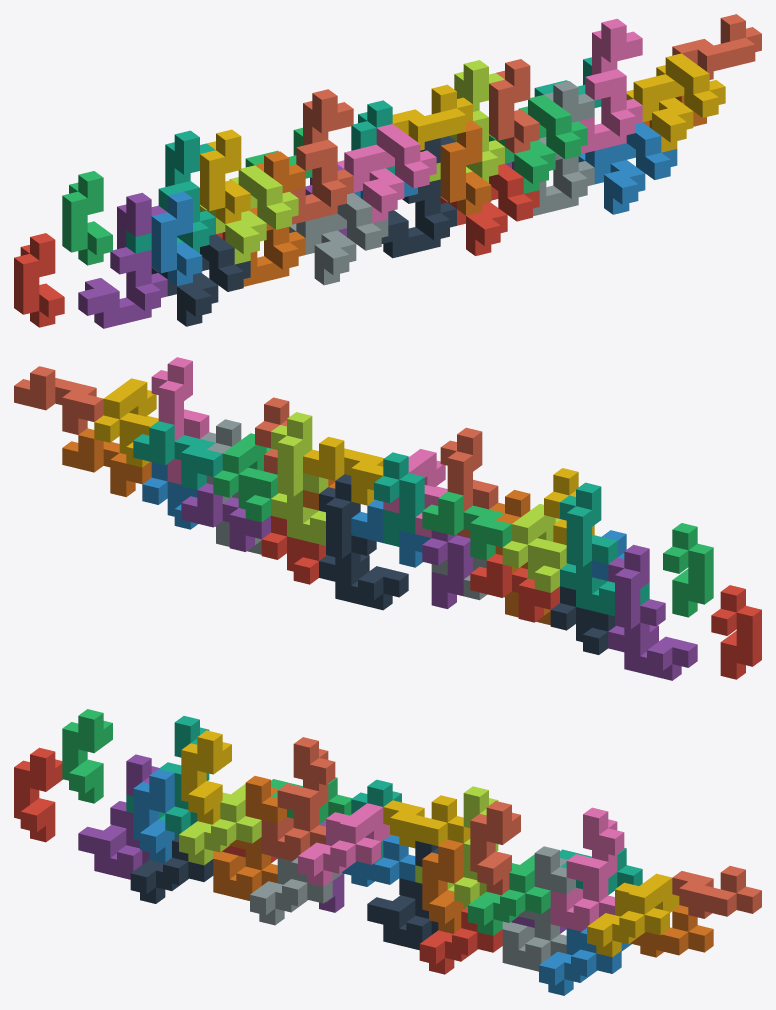
The model's file is tiling.obj.
3 views of the same model, one above another, from view 1: azimuth 30°, elevation 25°; view 2: azimuth 150°, elevation 25°; view 3: azimuth 330°, elevation 25° (orthographic).
Visible parts, largest first — view 1: copy_1_domain_1, copy_1_domain_3, copy_6_domain_8, copy_6_domain_4, copy_1_domain_4, copy_1_domain_8, copy_1_domain_2, copy_1_domain_6, copy_3_domain_1, copy_5_domain_8, copy_4_domain_8, copy_6_domain_1 (+31 smaller); view 2: copy_1_domain_3, copy_1_domain_1, copy_4_domain_8, copy_6_domain_1, copy_6_domain_3, copy_4_domain_3, copy_4_domain_7, copy_3_domain_5, copy_3_domain_1, copy_6_domain_7, copy_1_domain_7, copy_4_domain_4 (+29 smaller); view 3: copy_1_domain_3, copy_1_domain_1, copy_6_domain_4, copy_1_domain_4, copy_1_domain_8, copy_6_domain_8, copy_4_domain_8, copy_4_domain_4, copy_1_domain_6, copy_1_domain_2, copy_5_domain_8, copy_5_domain_4 (+34 smaller).
Boxes of the visible parts, bbox=[...] form: copy_1_domain_1: bbox=[14, 233, 64, 327]; copy_1_domain_3: bbox=[62, 171, 112, 265]; copy_6_domain_8: bbox=[585, 18, 642, 113]; copy_6_domain_4: bbox=[296, 89, 353, 183]; copy_1_domain_4: bbox=[200, 129, 250, 223]; copy_1_domain_8: bbox=[489, 59, 539, 153]; copy_1_domain_2: bbox=[151, 191, 202, 286]; copy_1_domain_6: bbox=[440, 121, 491, 215]; copy_3_domain_1: bbox=[78, 273, 167, 328]; copy_5_domain_8: bbox=[650, 53, 725, 117]; copy_4_domain_8: bbox=[672, 14, 761, 79]; copy_6_domain_1: bbox=[110, 192, 167, 287]; copy_1_domain_3: bbox=[663, 523, 713, 617]; copy_1_domain_1: bbox=[711, 585, 761, 679]; copy_4_domain_8: bbox=[14, 366, 103, 434]; copy_6_domain_1: bbox=[608, 544, 665, 639]; copy_6_domain_3: bbox=[560, 482, 617, 576]; copy_4_domain_3: bbox=[422, 491, 511, 560]; copy_4_domain_7: bbox=[133, 421, 222, 489]; copy_3_domain_5: bbox=[319, 554, 408, 610]; copy_3_domain_1: bbox=[608, 625, 697, 680]; copy_6_domain_7: bbox=[271, 412, 328, 506]; copy_1_domain_7: bbox=[374, 452, 424, 546]; copy_4_domain_4: bbox=[303, 436, 384, 505]; copy_1_domain_3: bbox=[62, 709, 112, 803]; copy_1_domain_1: bbox=[14, 747, 62, 842]; copy_6_domain_4: bbox=[277, 737, 335, 831]; copy_1_domain_4: bbox=[181, 730, 231, 824]; copy_1_domain_8: bbox=[470, 801, 520, 895]; copy_6_domain_8: bbox=[566, 807, 624, 902]; copy_4_domain_8: bbox=[672, 866, 761, 918]; copy_4_domain_4: bbox=[383, 795, 470, 848]; copy_1_domain_6: bbox=[422, 839, 463, 933]; copy_1_domain_2: bbox=[133, 769, 174, 863]; copy_5_domain_8: bbox=[619, 873, 679, 938]; copy_5_domain_4: bbox=[330, 803, 390, 867].
Size of the model in its own units: 46 by 11 by 6.
